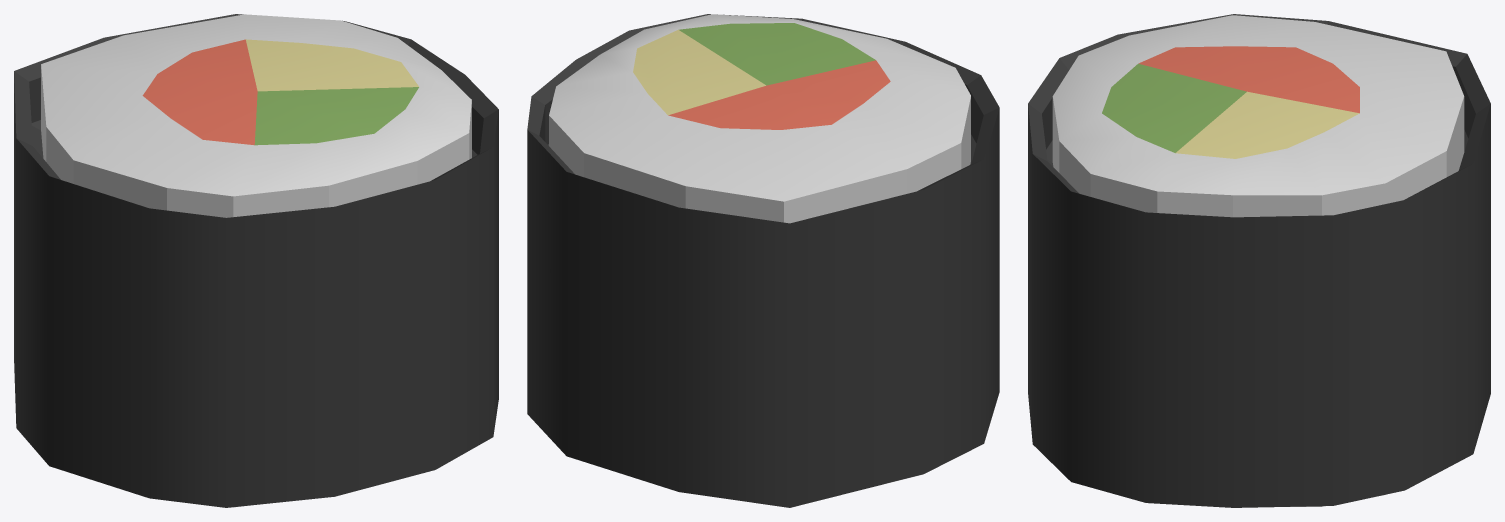
File: Sushi5.fbx
The picture shows the model from 3 angles, left to right: view 1: azimuth 30°, elevation 25°; view 2: azimuth 150°, elevation 25°; view 3: azimuth 270°, elevation 25°; orthographic projection. The views are drawn at different scales.
Parts seen in each view (by area): view 1: sushi5; view 2: sushi5; view 3: sushi5.
Boxes of the visible parts, left/top/right/bottom form: sushi5: left=14, top=14, right=498, bottom=507; sushi5: left=527, top=14, right=999, bottom=507; sushi5: left=1028, top=14, right=1490, bottom=507.
Bounding box in the file's own units: 3.35 × 2.58 × 3.22.
